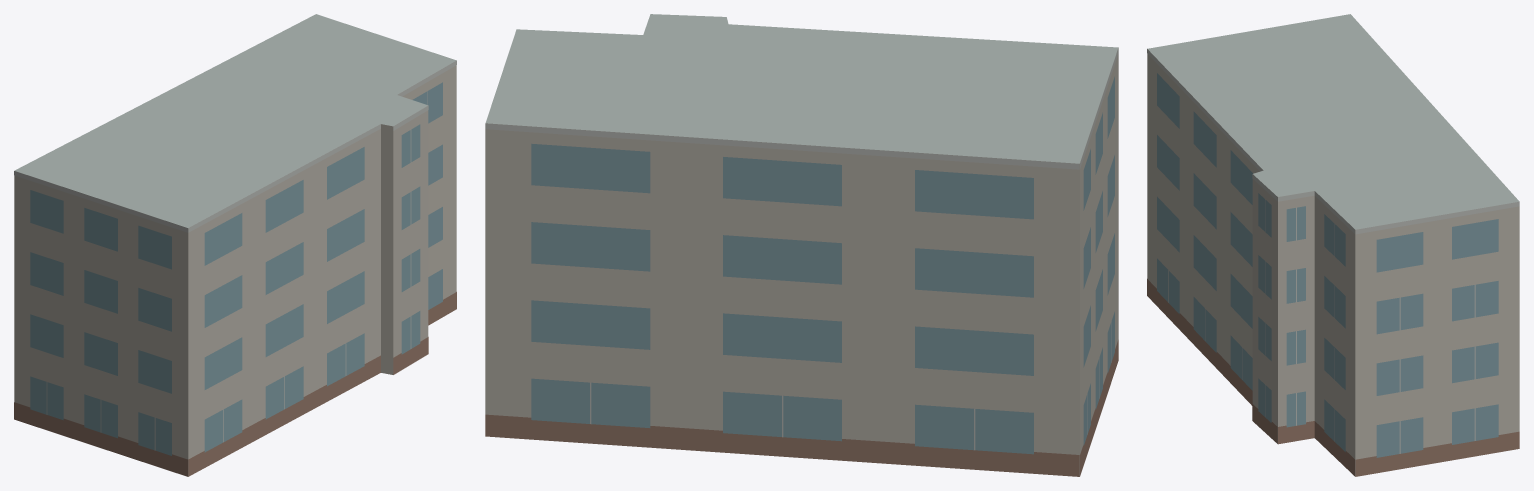
File: survey-upis-32728450.glb
3 views of the same model, side by side, from view 1: azimuth 30°, elevation 25°; view 2: azimuth 150°, elevation 25°; view 3: azimuth 270°, elevation 25° (orthographic). The views are drawn at different scales.
Visible parts, largest first — view 1: survey-upis-32728450.tmp; view 2: survey-upis-32728450.tmp; view 3: survey-upis-32728450.tmp.
Part boxes in pixels (x1,y1,x2,y2): survey-upis-32728450.tmp: [14, 14, 456, 476]; survey-upis-32728450.tmp: [485, 14, 1118, 476]; survey-upis-32728450.tmp: [1147, 14, 1519, 476].
Bounding box in the file's own units: 24.17 × 12.9 × 17.63.
